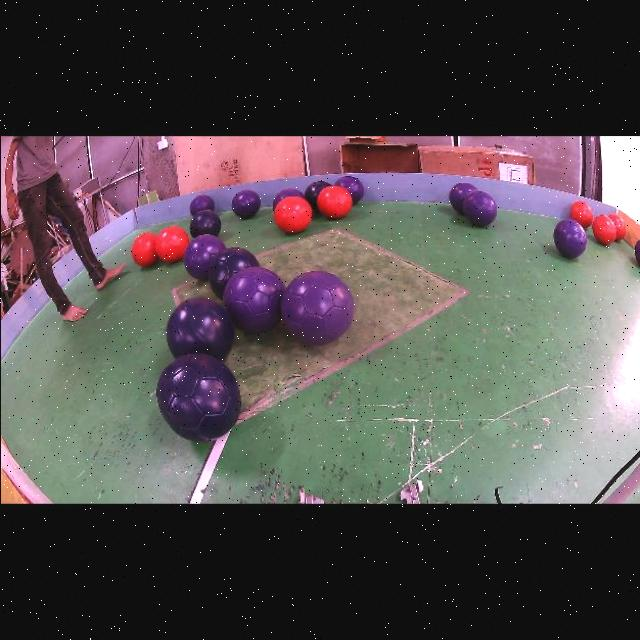B: (156, 352, 240, 441), (165, 296, 234, 359), (207, 246, 258, 298), (189, 209, 220, 237), (304, 180, 330, 209)
P: (280, 269, 354, 345), (222, 266, 284, 333), (183, 234, 225, 280), (552, 218, 587, 258), (461, 190, 496, 226), (449, 181, 477, 214), (334, 175, 363, 204), (231, 189, 259, 217), (272, 188, 304, 209), (189, 194, 213, 214), (634, 237, 640, 266)
R: (273, 195, 312, 232), (155, 225, 188, 262), (316, 185, 351, 218), (130, 231, 157, 266), (592, 213, 616, 244), (569, 200, 593, 228), (607, 213, 625, 239)
